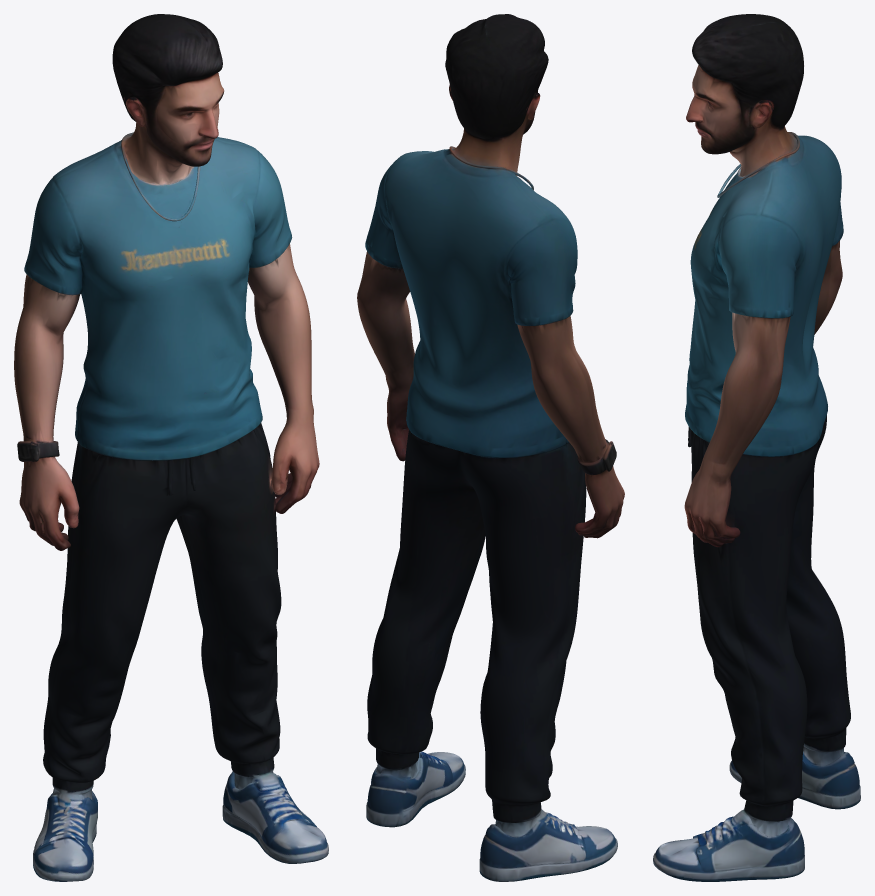
The model's file is character.glb.
3 renders of one model, left to right at view 1: azimuth 30°, elevation 25°; view 2: azimuth 150°, elevation 25°; view 3: azimuth 270°, elevation 25°, orthographic. The views are drawn at different scales.
Visible parts, largest first — view 1: node_0; view 2: node_0; view 3: node_0.
Boxes of the visible parts, x1,y1,x2,y2 form: node_0: [14, 14, 328, 881]; node_0: [357, 14, 624, 881]; node_0: [653, 14, 860, 881].
Size of the model in its own units: 0.3844 by 1.14 by 0.2665.
1 material, 1 textured.
